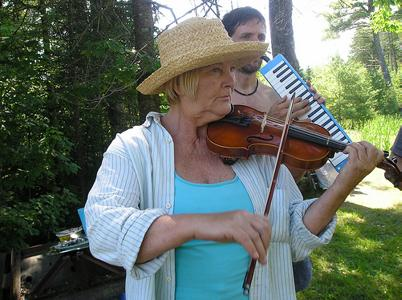person: (85, 17, 384, 300)
